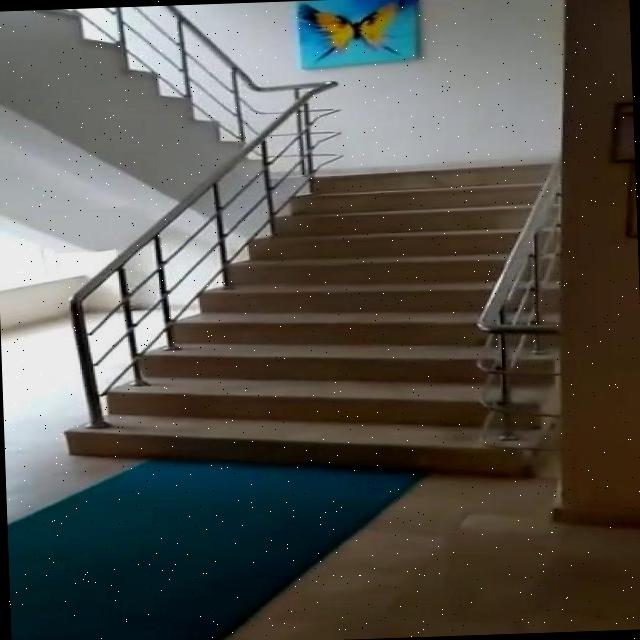stairs: (54, 160, 566, 492)
